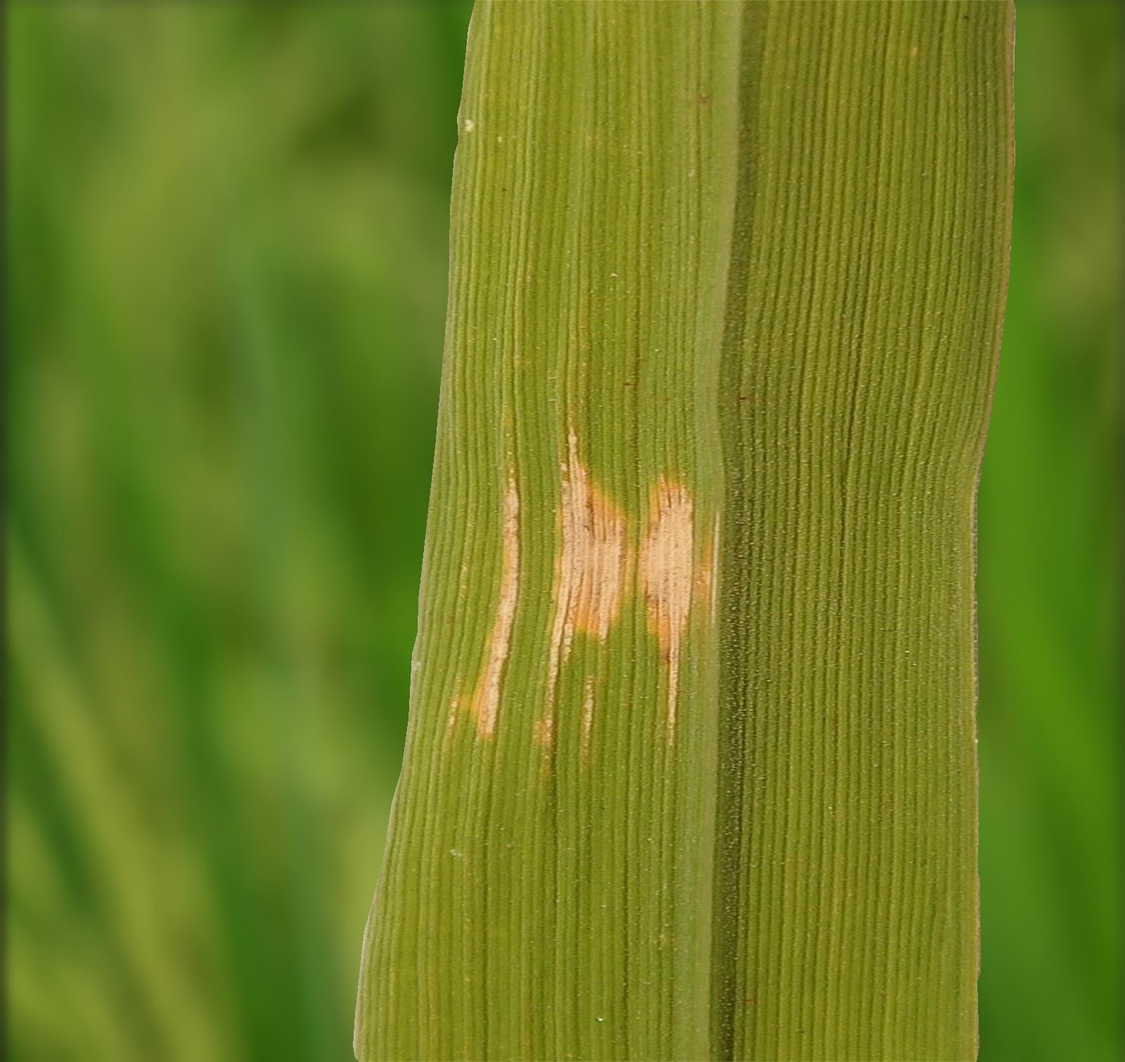BLS: (534, 426, 631, 748), (445, 468, 519, 742), (638, 477, 695, 743), (700, 513, 721, 620), (581, 675, 595, 758)
LEAF: (353, 0, 1015, 1061)
